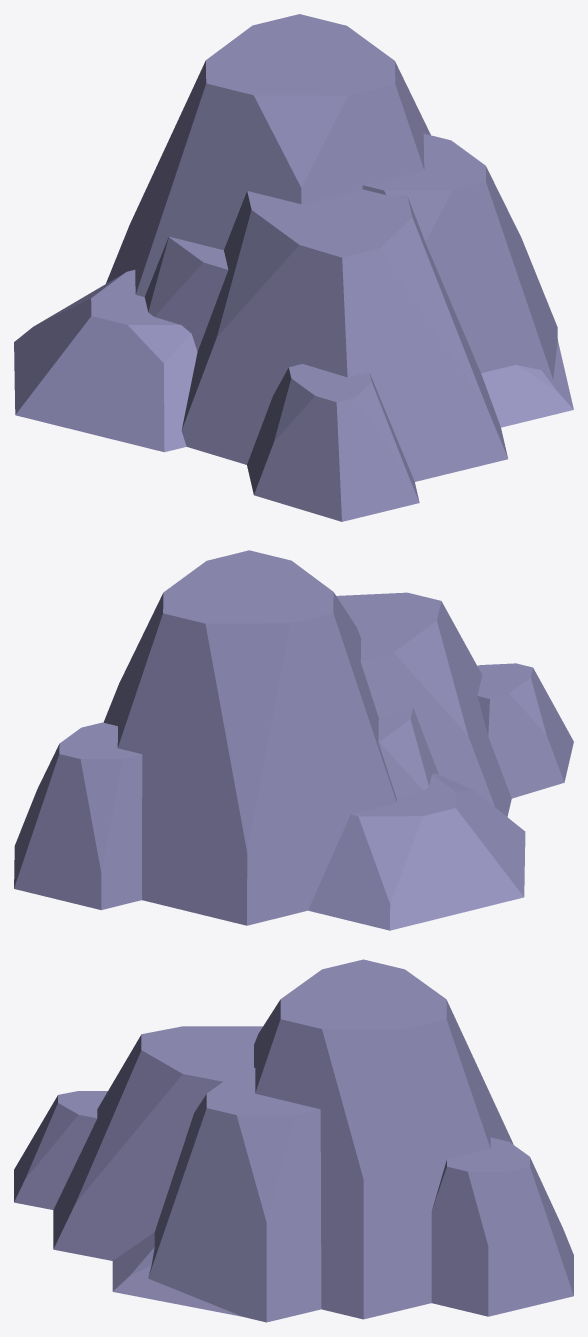
File: Stone2.fbx
3 views of the same model, one above another, from view 1: azimuth 30°, elevation 25°; view 2: azimuth 150°, elevation 25°; view 3: azimuth 270°, elevation 25° (orthographic). The views are drawn at different scales.
Parts seen in each view (by area): view 1: mergedBlocks; view 2: mergedBlocks; view 3: mergedBlocks.
Boxes of the visible parts, x1,y1,x2,y2 form: mergedBlocks: (14,14,573,521); mergedBlocks: (14,550,573,930); mergedBlocks: (14,959,573,1322).
Size of the model in its own units: 115 by 61 by 130.
